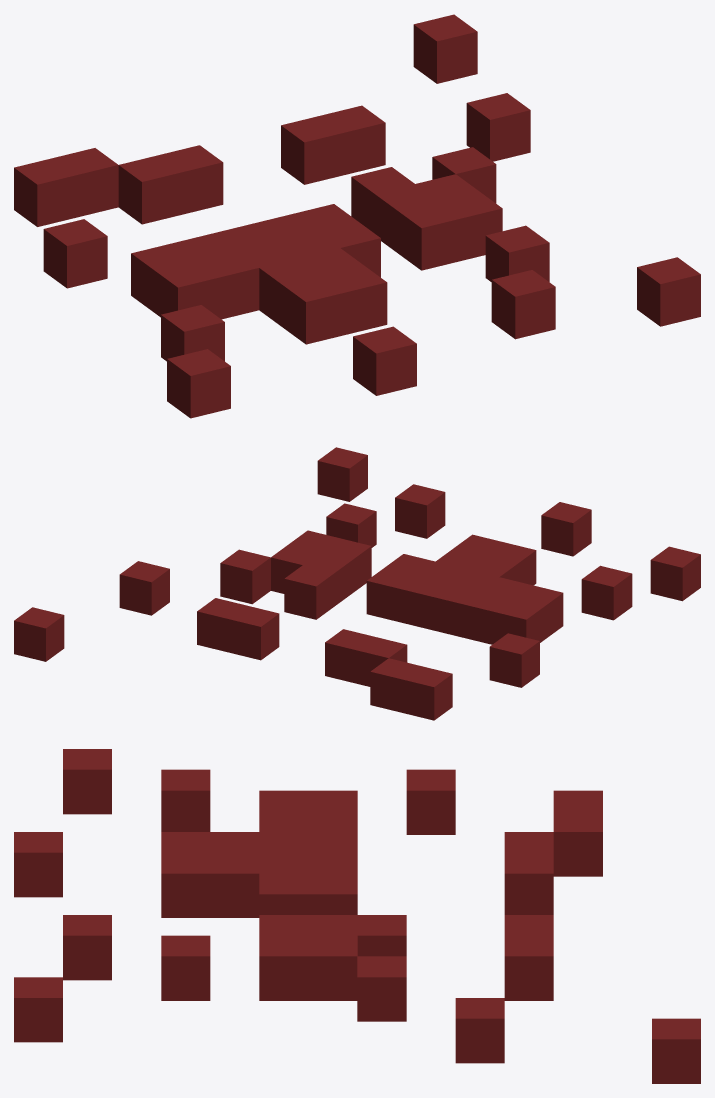
File: blood_03.obj
3 renders of one model, top to bottom at view 1: azimuth 30°, elevation 25°; view 2: azimuth 150°, elevation 25°; view 3: azimuth 270°, elevation 25°, orthographic. The views are drawn at different scales.
Visible parts, largest first — view 1: blood_03; view 2: blood_03; view 3: blood_03.
Boxes of the visible parts, x1,y1,x2,y2 form: blood_03: (14,14,700,418); blood_03: (14,447,700,720); blood_03: (14,749,700,1083).
Bounding box in the file's own units: 14 × 1 × 14.
Materials: 1 (1 with a texture image).
